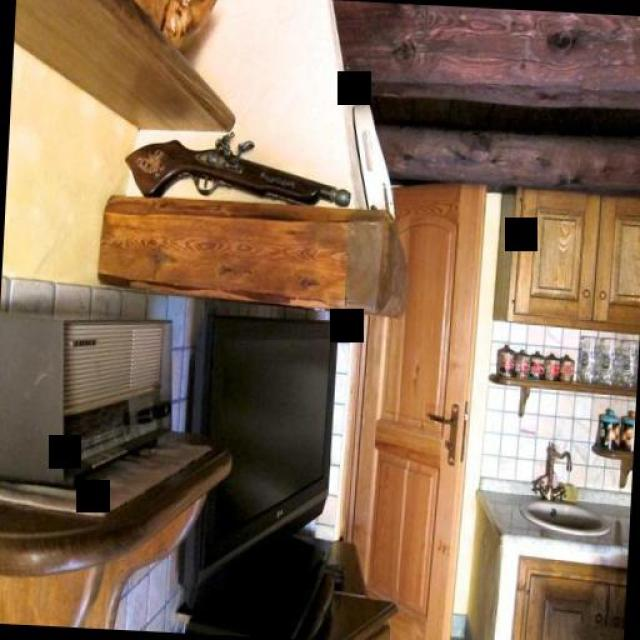gun: (121, 126, 351, 222)
